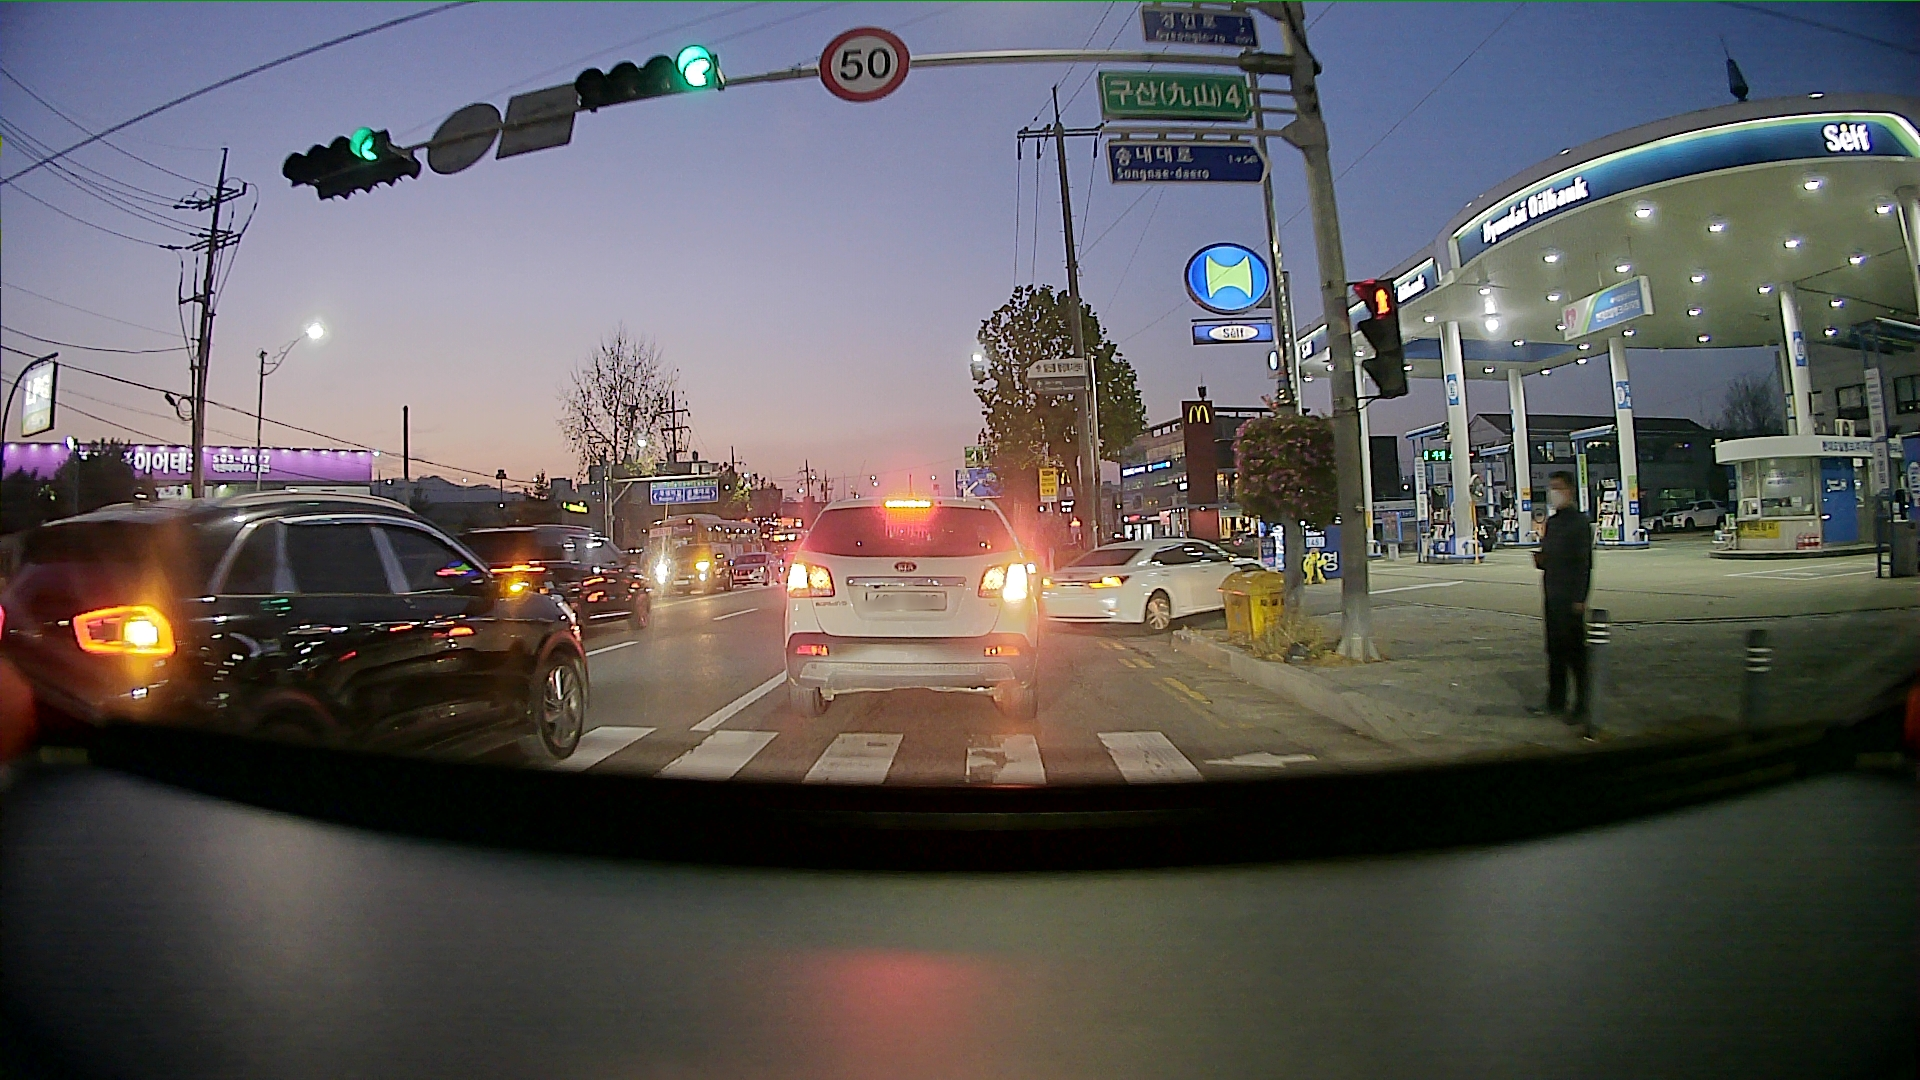trafficLight: (574, 44, 727, 113), (276, 127, 422, 198)
trafficLightBar: (1349, 272, 1408, 405)
trafficSignCircle: (818, 24, 913, 103)
